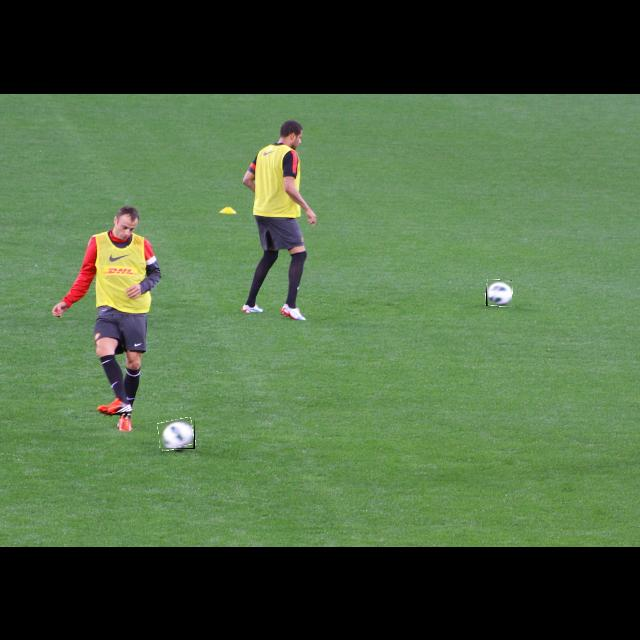Football: (159, 419, 195, 449), (486, 280, 512, 306)
